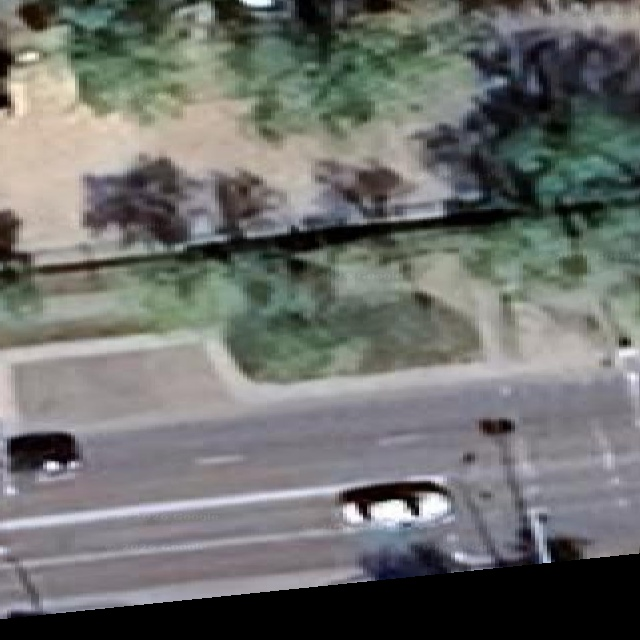car: (337, 476, 455, 579), (337, 477, 452, 527), (5, 432, 81, 472), (239, 0, 288, 18), (613, 335, 639, 367), (240, 0, 280, 8), (7, 608, 44, 616)
